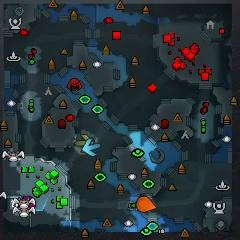p3: (21, 196, 35, 209)
p5: (136, 197, 157, 212)
x2: (75, 134, 92, 146)
x3: (82, 139, 100, 157)
